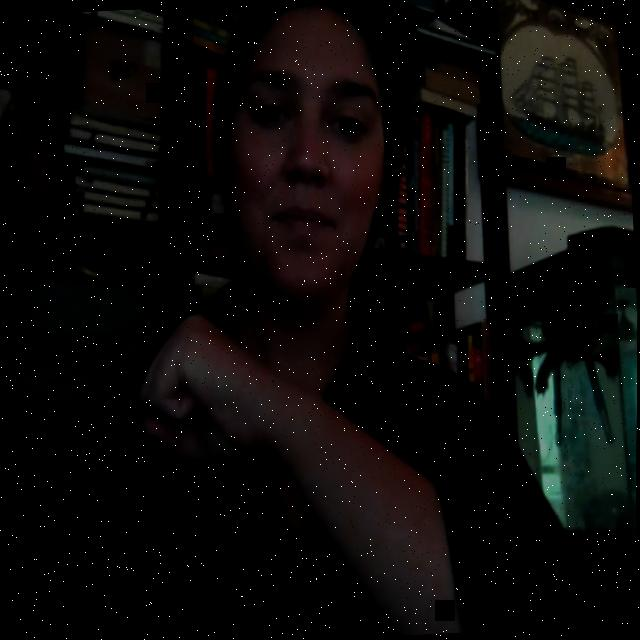Rock: (110, 298, 294, 492)
